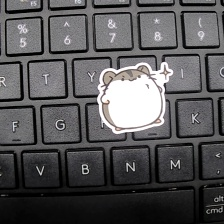mouse: (96, 61, 175, 135)
